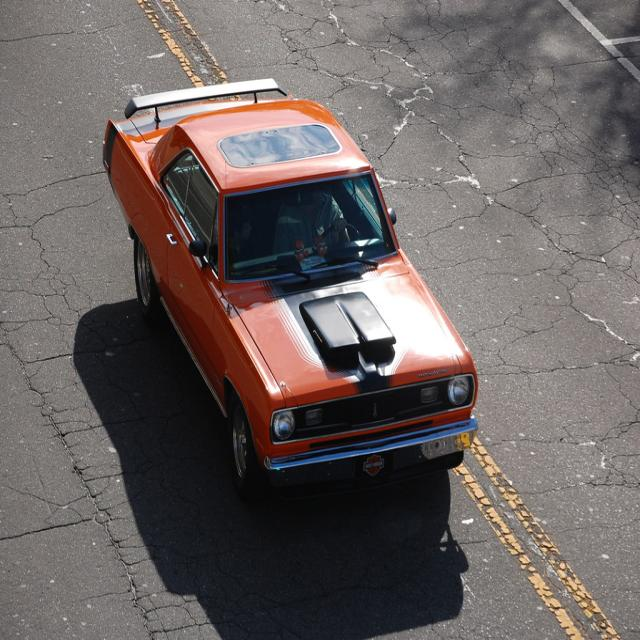car: (96, 76, 477, 499)
